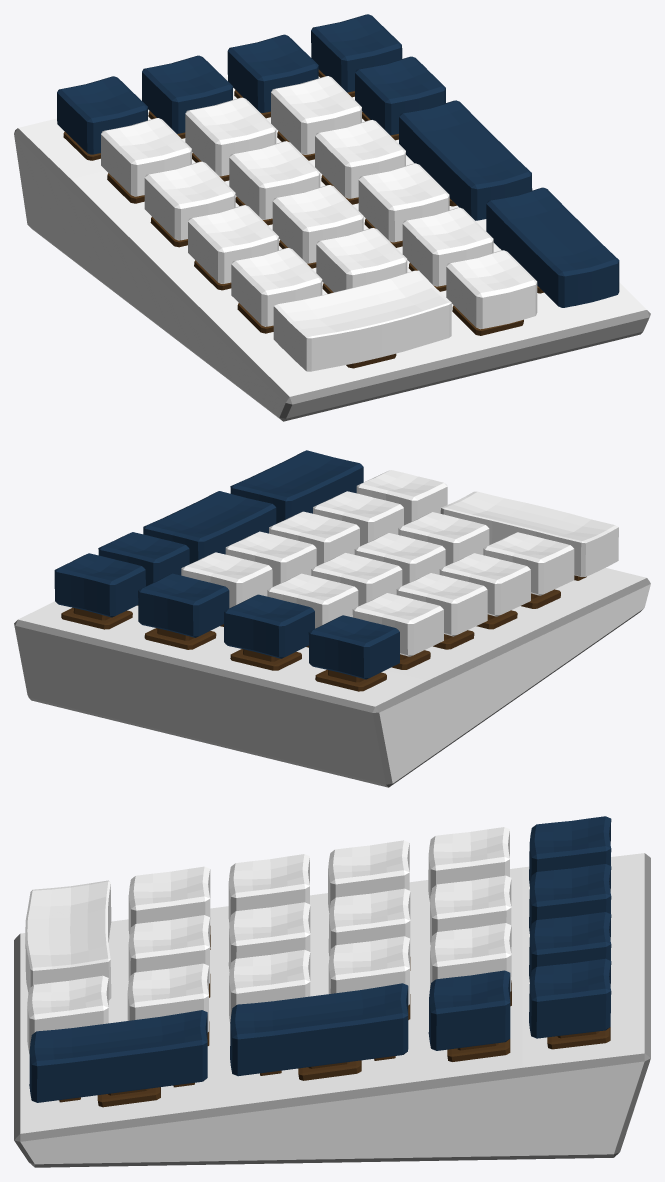
The model's file is basic_numpad.glb.
The picture shows the model from 3 angles, top to bottom: view 1: azimuth 30°, elevation 25°; view 2: azimuth 150°, elevation 25°; view 3: azimuth 270°, elevation 25°; orthographic projection. The views are drawn at different scales.
Visible parts, largest first — view 1: BASE_24, big_down_19, KEYCAP.012_20, KEYCAP.007_18, Object_55, NUM_6, SPEC_1_1, *_5, Object_37, /_4, Object_28, Object_46 (+10 smaller); view 2: BASE_24, big_down_19, SPEC_1_1, SPEC_3_2, SPEC_4_3, SPEC_2_0, KEYCAP.012_20, KEYCAP.007_18, NUM_6, Object_46, Object_28, Object_43 (+10 smaller); view 3: BASE_24, KEYCAP.007_18, KEYCAP.012_20, big_down_19, SPEC_4_3, Object_25, NUM_6, Object_46, Object_49, Object_28, SPEC_2_0, Object_43 (+11 smaller).
Part boxes in pixels (x1,y1,x2,y2): BASE_24: (14,56,650,421); big_down_19: (273,270,451,371); KEYCAP.012_20: (486,187,619,307); KEYCAP.007_18: (399,100,532,220); Object_55: (446,250,537,329); NUM_6: (101,118,191,203); SPEC_1_1: (57,76,147,160); *_5: (271,76,361,160); Object_37: (358,163,449,242); /_4: (185,97,276,181); Object_28: (144,161,235,240); Object_46: (231,248,322,326); BASE_24: (14,567,650,787); big_down_19: (440,491,618,580); SPEC_1_1: (308,615,399,691); SPEC_3_2: (138,573,229,649); SPEC_4_3: (54,553,145,629); SPEC_2_0: (224,594,314,670); KEYCAP.012_20: (230,450,363,523); KEYCAP.007_18: (143,491,276,563); NUM_6: (352,593,443,669); Object_46: (483,532,574,595); Object_28: (396,573,487,636); Object_43: (439,553,530,616); BASE_24: (14,853,650,1167); KEYCAP.007_18: (230,983,408,1080); KEYCAP.012_20: (29,1010,207,1107); big_down_19: (25,880,111,1000); SPEC_4_3: (529,958,611,1049); Object_25: (428,970,510,1050); NUM_6: (428,827,509,901); Object_46: (128,866,210,935); Object_49: (128,915,210,983); Object_28: (328,840,409,912); SPEC_2_0: (529,864,611,933); Object_43: (228,854,309,924).
Size of the model in its own units: 1.77 by 0.6673 by 2.32.
